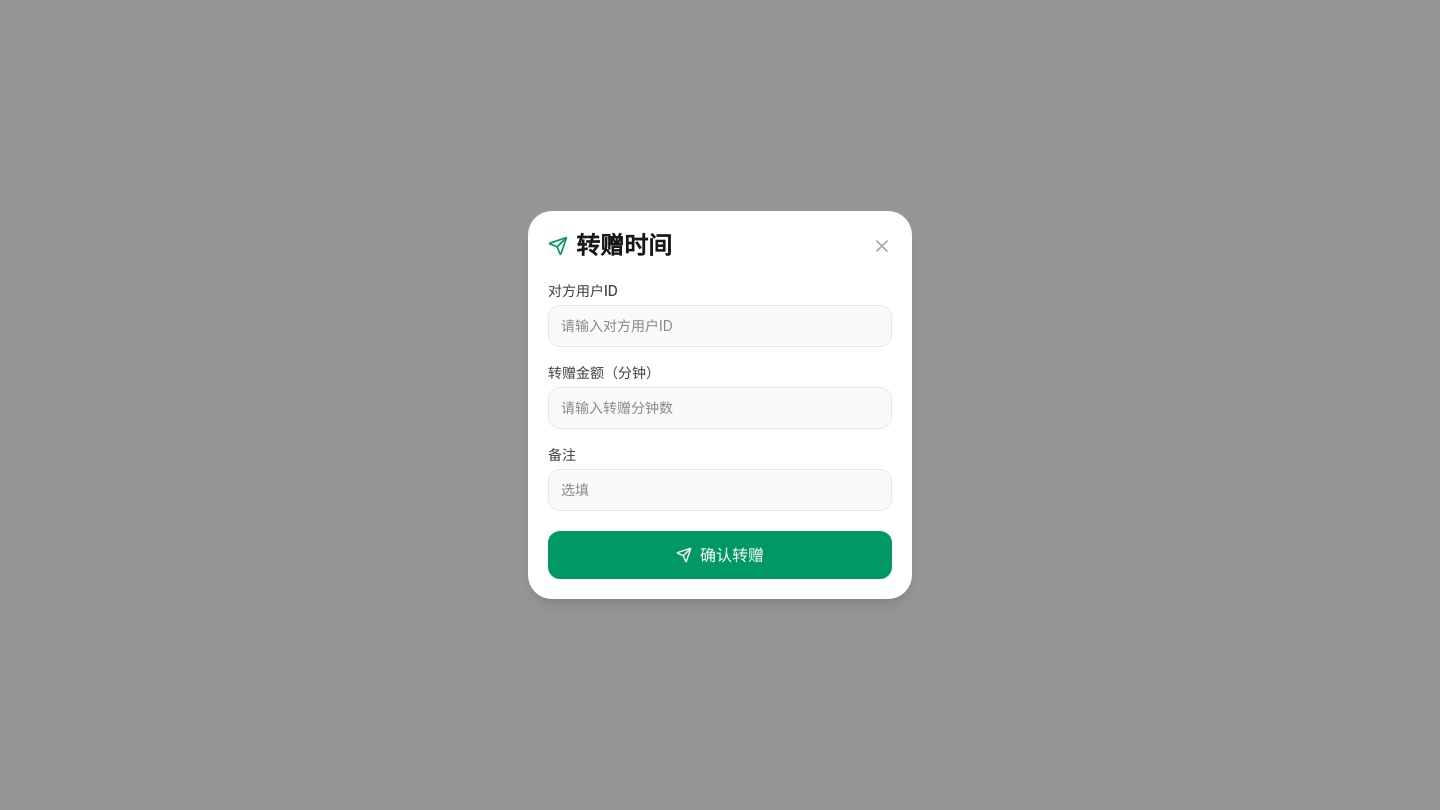
Test: TransferModal 转赠时间币弹窗 › 字段级校验 › 金额为空时点击确认转赠显示「转赠金额必须为正整数」错误
Type "user-99" into the field with placeholder "请输入对方用户ID" at {"x": 720, "y": 326}, box [548, 305, 892, 347]
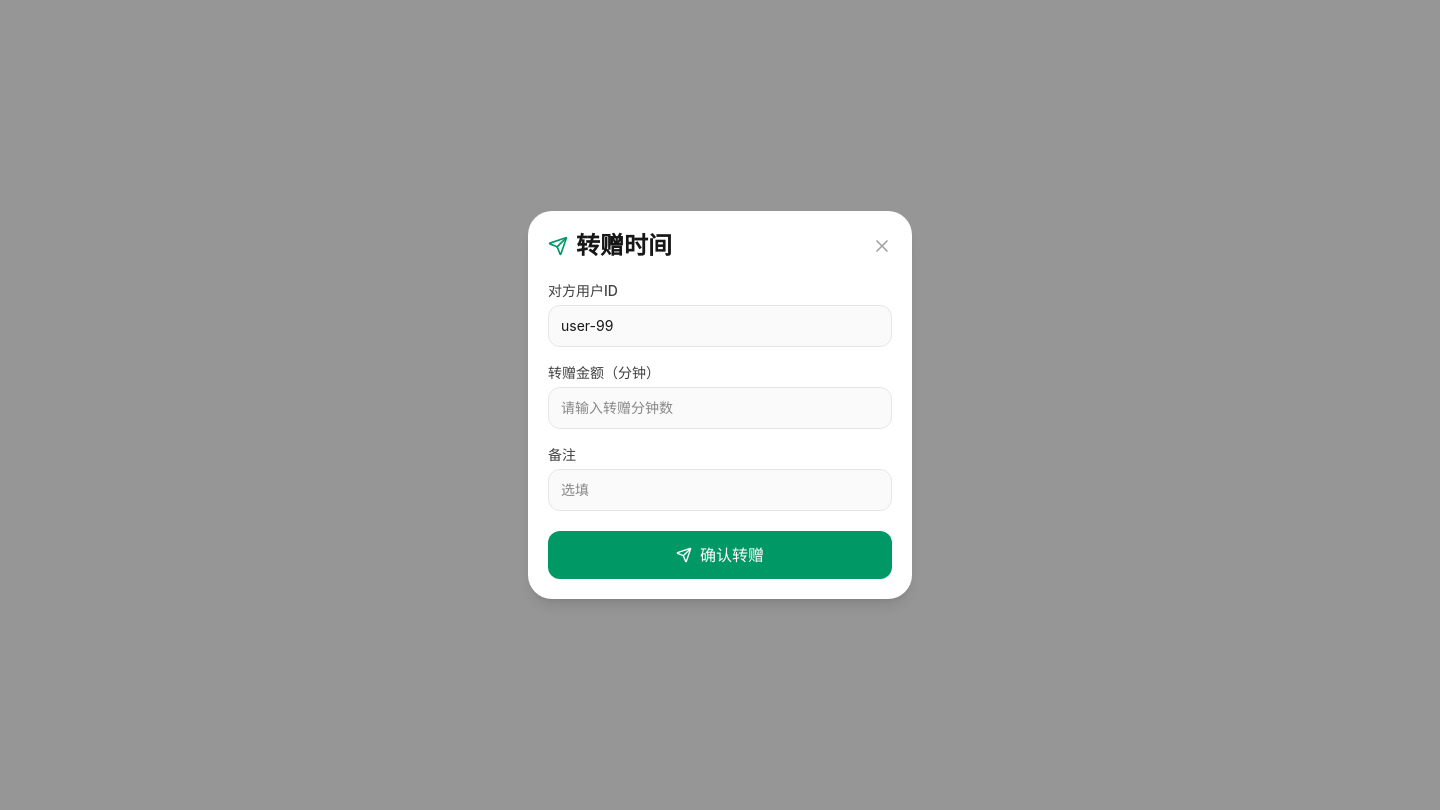
Click the button "确认转赠" at {"x": 720, "y": 555}, box [548, 531, 892, 579]
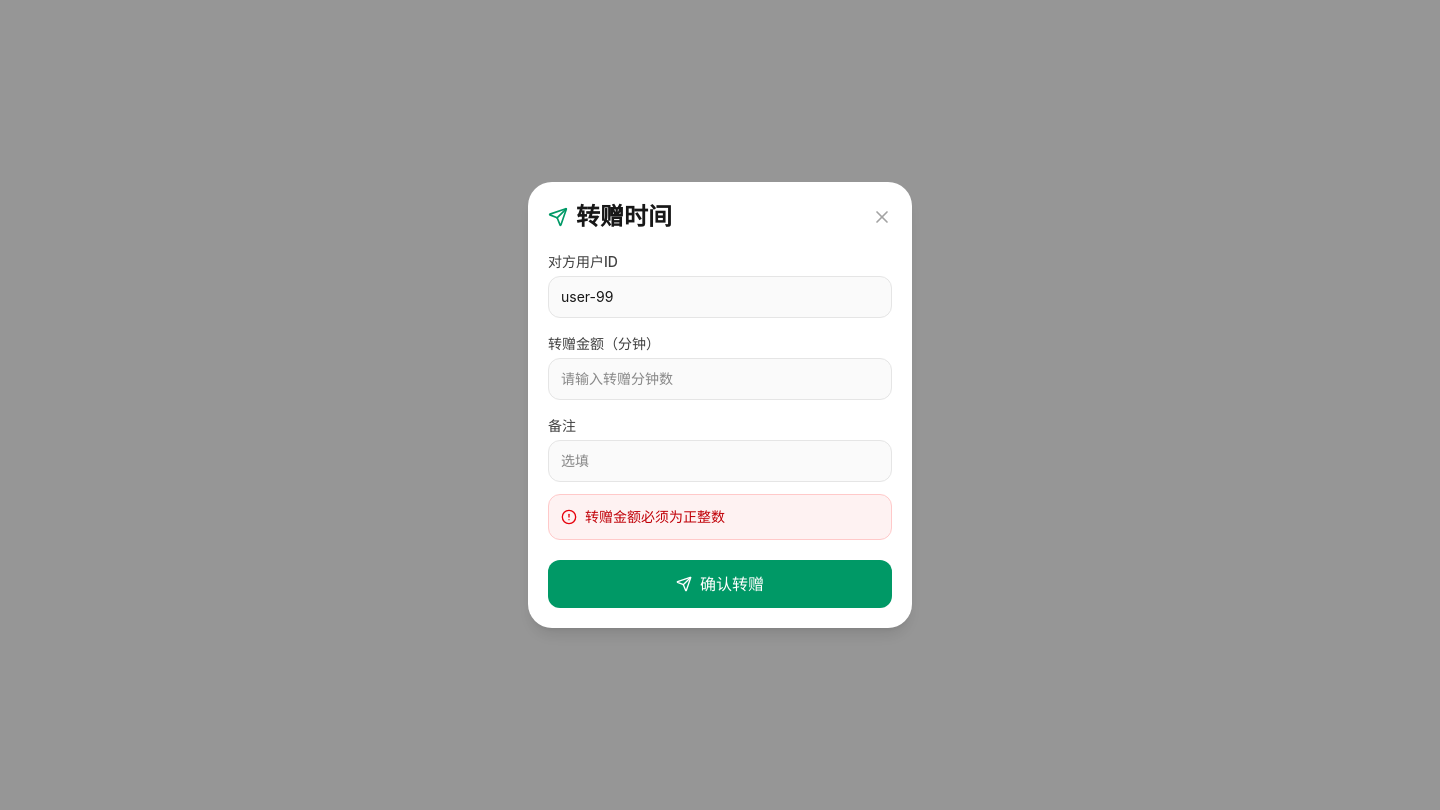
Expected: the text "转赠金额必须为正整数" is shown, [585, 507, 725, 527]
